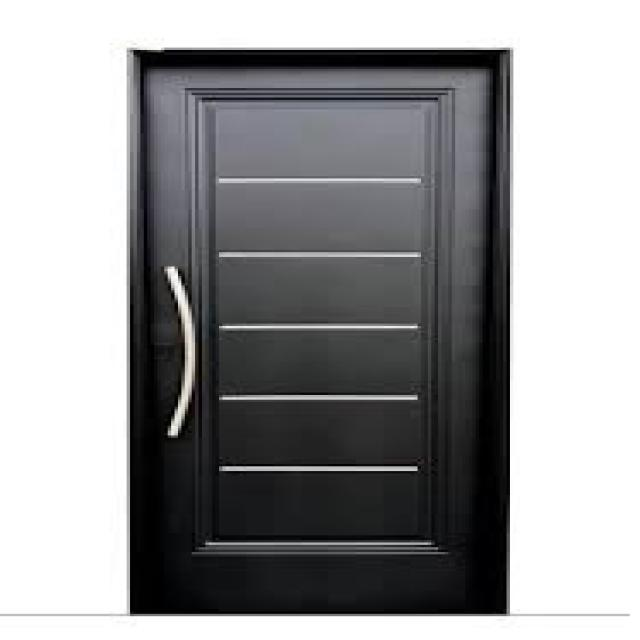door: (130, 49, 510, 615)
